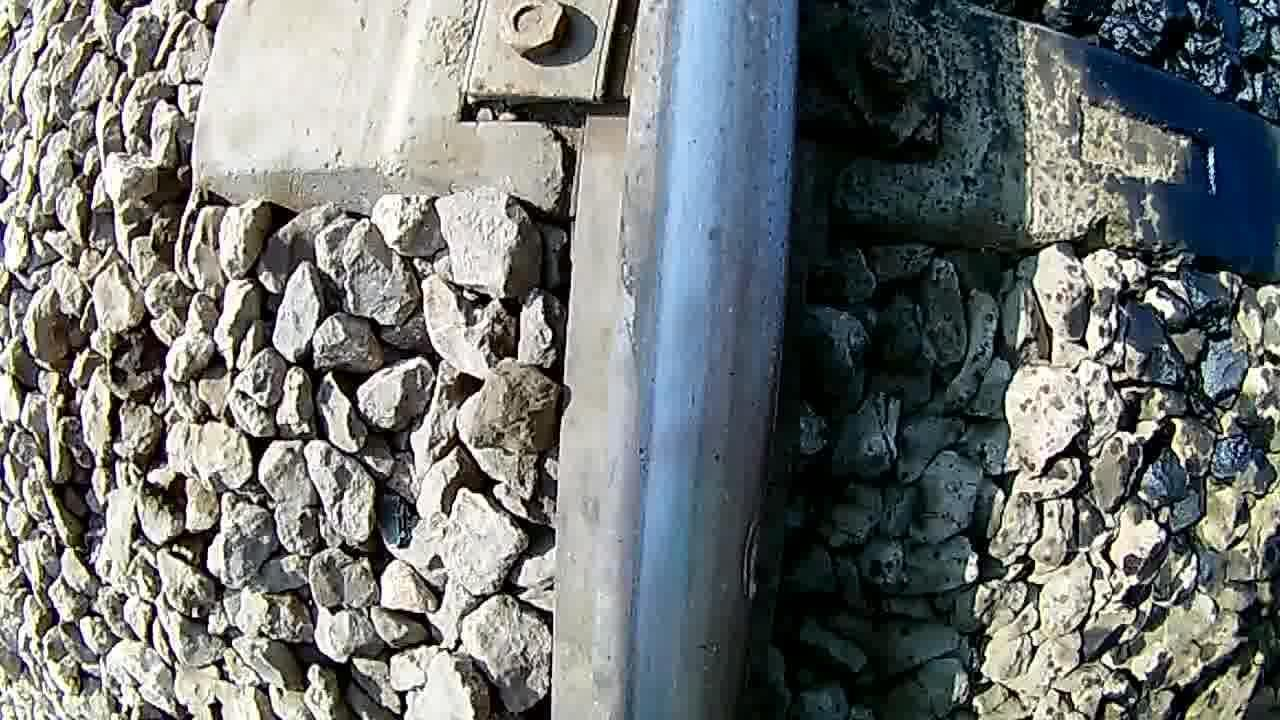crack: (614, 1, 796, 522)
